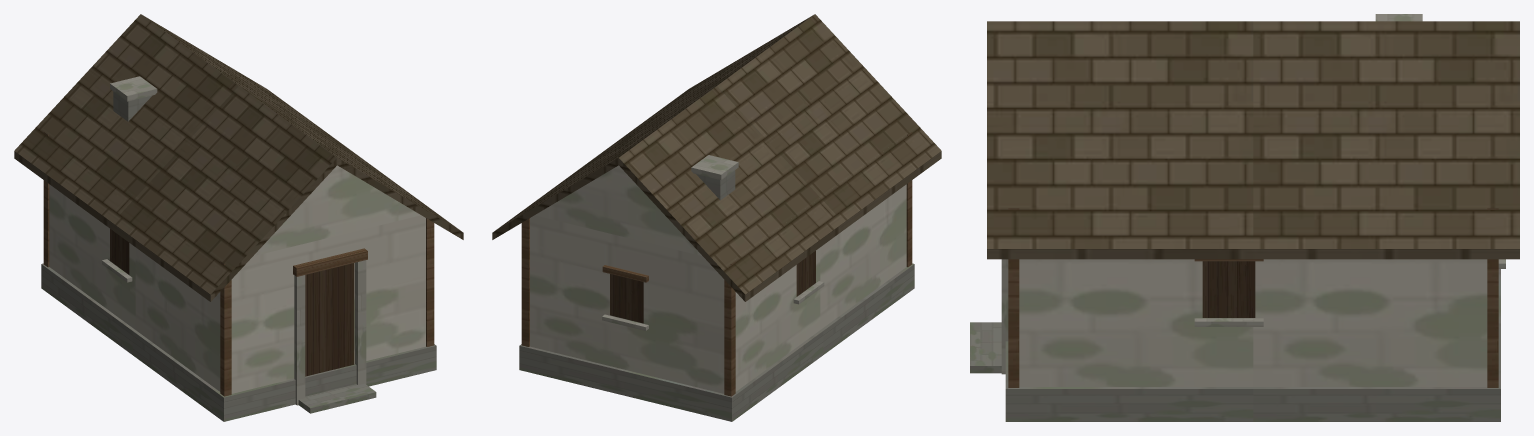
The model's file is ae_forest_stone_medium_block_lod0.glb.
The picture shows the model from 3 angles, left to right: view 1: azimuth 30°, elevation 25°; view 2: azimuth 150°, elevation 25°; view 3: azimuth 270°, elevation 25°; orthographic projection. The views are drawn at different scales.
Visible parts, largest first — view 1: ae_forest_stone_medium_block_lod0; view 2: ae_forest_stone_medium_block_lod0; view 3: ae_forest_stone_medium_block_lod0.
Part boxes in pixels (x1,y1,x2,y2): ae_forest_stone_medium_block_lod0: [14, 14, 463, 421]; ae_forest_stone_medium_block_lod0: [492, 14, 941, 421]; ae_forest_stone_medium_block_lod0: [970, 14, 1519, 421].
Size of the model in its own units: 4.9 by 4.5 by 6.79.
1 material, 1 textured.
